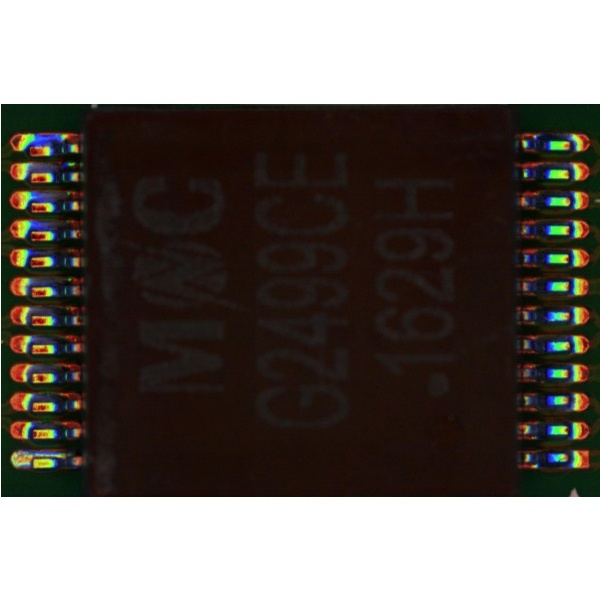Bad_podu: (22, 458, 36, 466)
Bad_qiaojiao: (34, 451, 70, 458)
